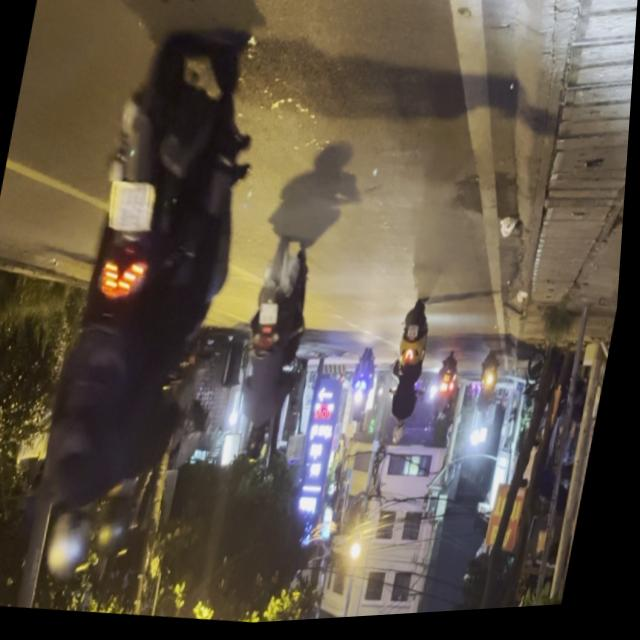helmet: (46, 496, 107, 583), (96, 480, 149, 562), (247, 428, 273, 469)
licenseplate: (23, 24, 279, 598), (227, 238, 325, 474)
nohelmet: (107, 184, 158, 238), (261, 307, 283, 330)
